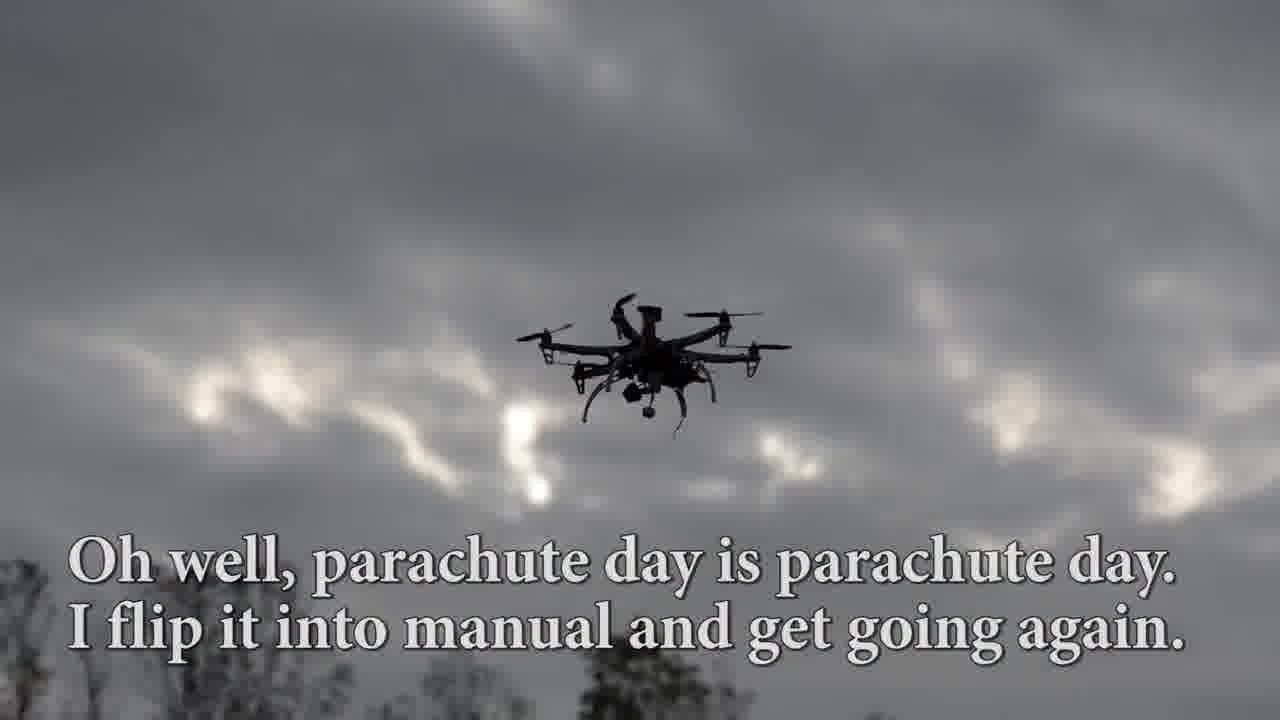drone: (516, 283, 775, 441)
